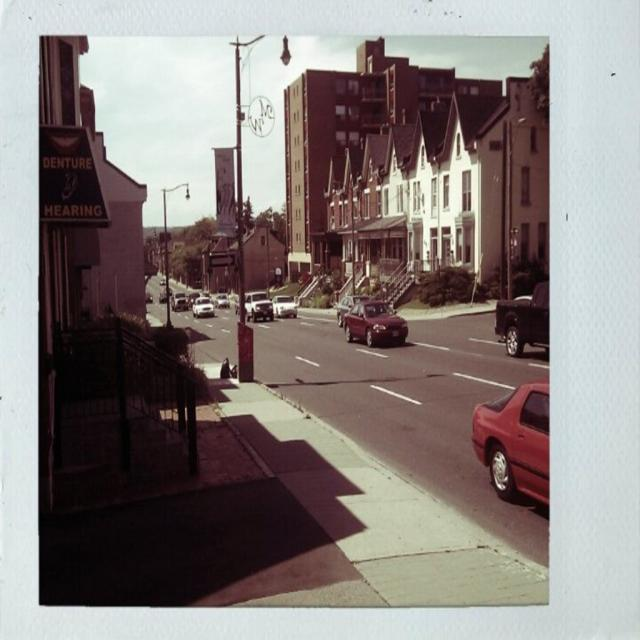car: (462, 368, 551, 509), (341, 299, 410, 354), (274, 291, 296, 320), (168, 288, 188, 309), (333, 297, 354, 316), (188, 299, 215, 312), (216, 293, 230, 306), (160, 288, 169, 300), (160, 278, 167, 287), (147, 292, 152, 300)
